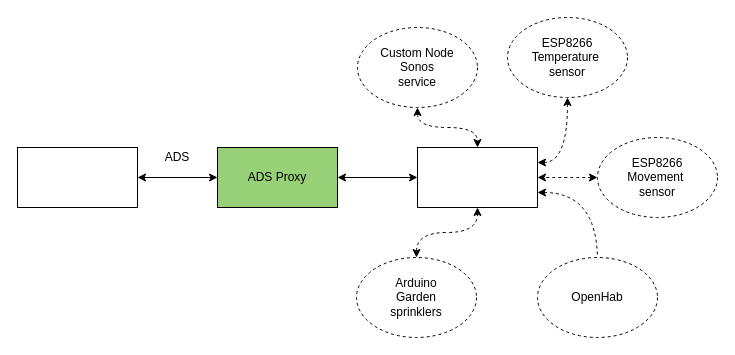
The diagram is 735 pixels wide and 355 high, and some of its shapes have lost their labels. Each missing label, with the box of its shape:
Beckhoff: (16, 146, 138, 208)
MQTT Broker: (416, 146, 538, 208)
